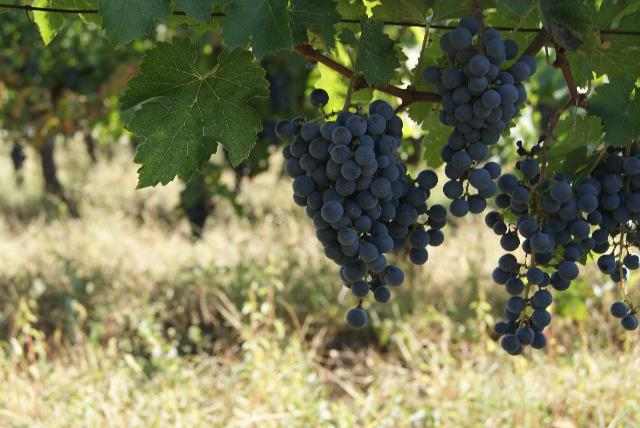grapes: (275, 100, 446, 329), (422, 16, 536, 216), (486, 149, 590, 355), (576, 138, 640, 301)
